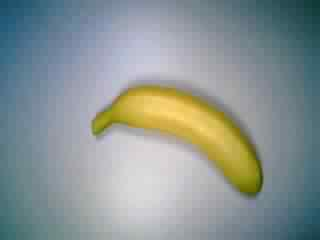banana: (89, 86, 266, 196)
